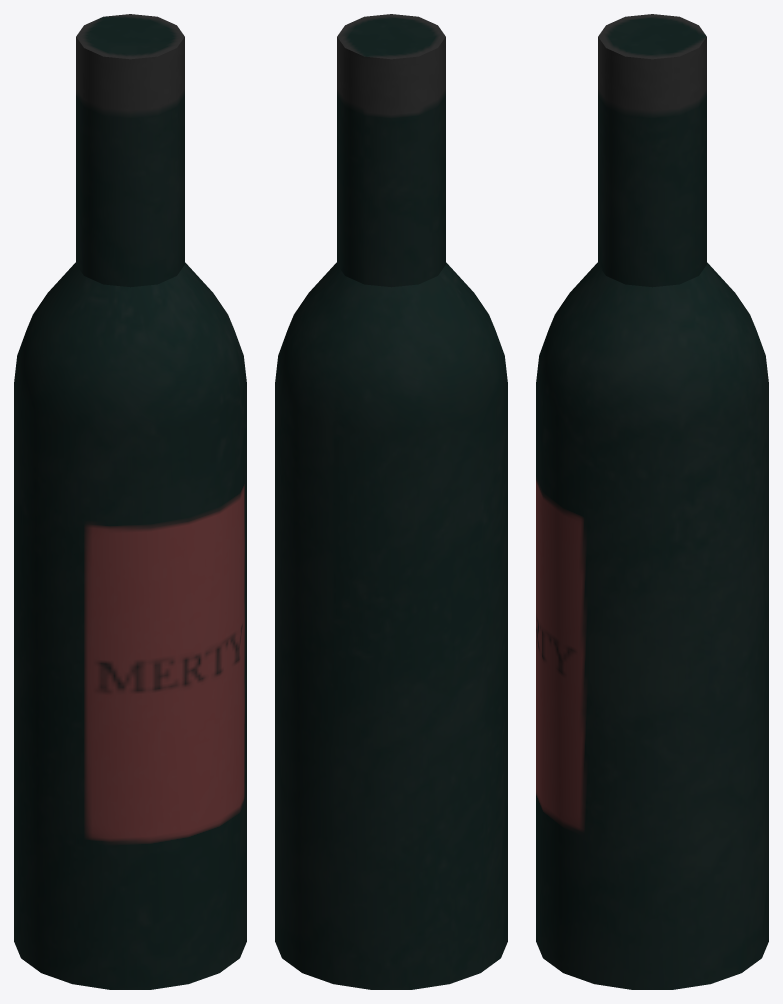
File: Bottle.fbx
3 renders of one model, left to right at view 1: azimuth 30°, elevation 25°; view 2: azimuth 150°, elevation 25°; view 3: azimuth 270°, elevation 25°, orthographic.
Parts seen in each view (by area): view 1: Bottle; view 2: Bottle; view 3: Bottle.
Part boxes in pixels (x1,y1,x2,y2): Bottle: (14,14,246,989); Bottle: (275,14,507,989); Bottle: (536,14,768,989).
Size of the model in its own units: 6.89 by 30 by 7.
